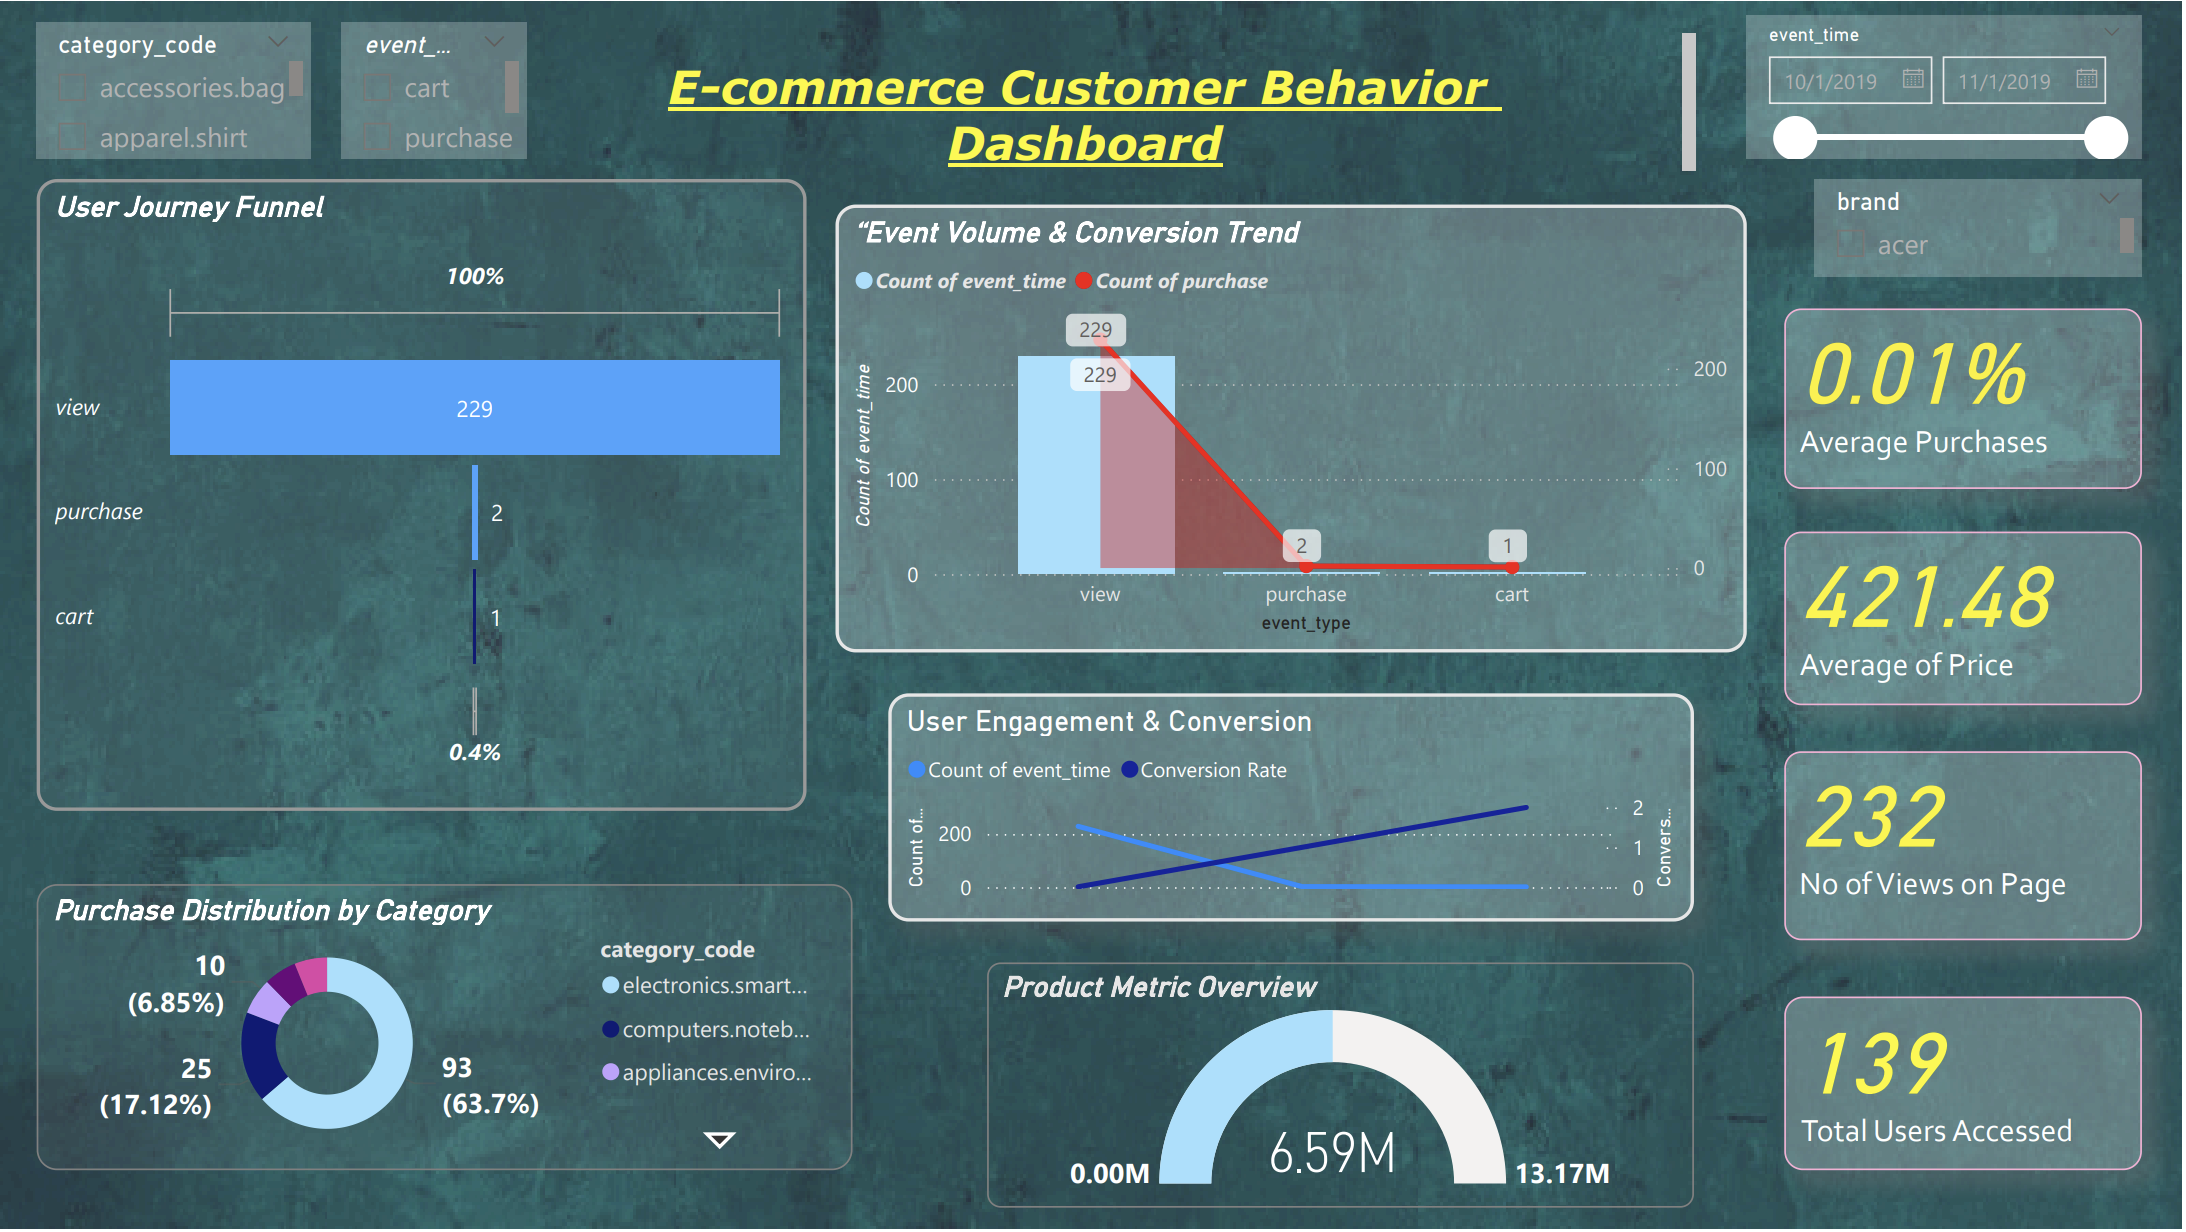

This screenshot's page, from the dashboard's own definition file:
{"tool":"powerbi","page":{"name":"Page 1","canvas":[1280,720],"ordinal":0},"visuals":[{"type":"funnel","title":"User Journey Funnel","fields":{"Category":["cleaned_ecommerce (2).event_type"],"Y":["CountNonNull(cleaned_ecommerce (2).event_type)"]},"box":[20.8,103.9,451.9,371.4],"z":0},{"type":"gauge","title":"Product Metric Overview","fields":{"Y":["Avg(cleaned_ecommerce (2).product_id)"]},"box":[579.2,563.6,414.3,144.2],"z":1000},{"type":"lineStackedColumnComboChart","title":"“Event Volume & Conversion Trend","fields":{"Category":["cleaned_ecommerce (2).event_type"],"Y":["CountNonNull(cleaned_ecommerce (2).event_time)"],"Y2":["CountNonNull(cleaned_ecommerce (2).purchase)"]},"box":[489.6,119.5,535.1,262.3],"z":2000},{"type":"donutChart","title":"Purchase Distribution by Category","fields":{"Category":["cleaned_ecommerce (2).category_code"],"Y":["CountNonNull(cleaned_ecommerce (2).event_type)"]},"box":[20.8,518.2,479.2,167.5],"z":3000},{"type":"textbox","box":[1047.1,584.3,210,101.4],"z":4000},{"type":"textbox","box":[1047.1,180,210,105.7],"z":5000},{"type":"textbox","box":[1047.1,311.4,210,101.4],"z":6000},{"type":"textbox","box":[1047.1,440,210,111.4],"z":7000},{"type":"lineChart","title":"User Engagement & Conversion","fields":{"Category":["cleaned_ecommerce (2).event_type"],"Y":["CountNonNull(cleaned_ecommerce (2).event_time)"],"Y2":["cleaned_ecommerce (2).Conversion Rate"]},"box":[520.8,406.5,472.7,133.8],"z":8000},{"type":"textbox","box":[280.5,11.7,719.5,92.2],"z":9000},{"type":"slicer","fields":{"Values":["cleaned_ecommerce (2).event_type"]},"box":[200,11.7,109.1,80.5],"z":9001},{"type":"slicer","fields":{"Values":["cleaned_ecommerce (2).category_code"]},"box":[20.8,11.7,161,80.5],"z":9002},{"type":"slicer","fields":{"Values":["cleaned_ecommerce (2).event_time"]},"box":[1024.7,7.8,232.5,84.4],"z":9003},{"type":"slicer","fields":{"Values":["cleaned_ecommerce (2).brand"]},"box":[1064.9,103.9,192.2,57.1],"z":9004}]}

Visuals, with their boxes in screenshot pixels (x1, y1, x2, y2), scaled from the page's 1280x720 canvas onto the 2186x1232 screenshot:
"User Journey Funnel" funnel: (left=36, top=178, right=807, bottom=813)
"Product Metric Overview" gauge: (left=989, top=964, right=1697, bottom=1211)
"“Event Volume & Conversion Trend" lineStackedColumnComboChart: (left=836, top=204, right=1750, bottom=653)
"Purchase Distribution by Category" donutChart: (left=36, top=887, right=854, bottom=1173)
textbox: (left=1788, top=1000, right=2147, bottom=1173)
textbox: (left=1788, top=308, right=2147, bottom=489)
textbox: (left=1788, top=533, right=2147, bottom=706)
textbox: (left=1788, top=753, right=2147, bottom=944)
"User Engagement & Conversion" lineChart: (left=889, top=696, right=1697, bottom=925)
textbox: (left=479, top=20, right=1708, bottom=178)
slicer - cleaned_ecommerce (2).event_type: (left=342, top=20, right=528, bottom=158)
slicer - cleaned_ecommerce (2).category_code: (left=36, top=20, right=310, bottom=158)
slicer - cleaned_ecommerce (2).event_time: (left=1750, top=13, right=2147, bottom=158)
slicer - cleaned_ecommerce (2).brand: (left=1819, top=178, right=2147, bottom=275)
